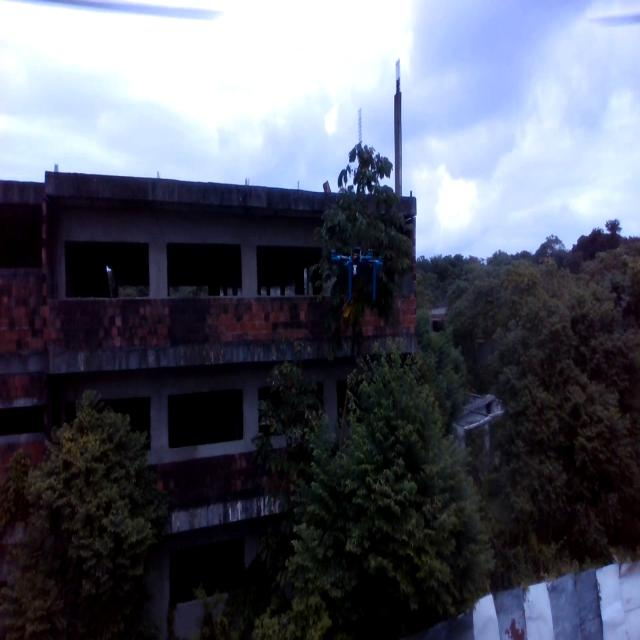-uav-: (324, 222, 397, 328)
